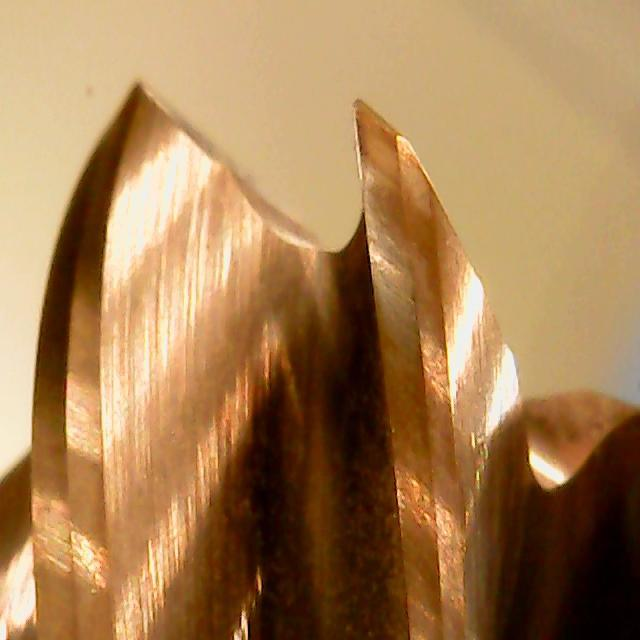Tool-wear-class-0: (338, 97, 468, 423)
